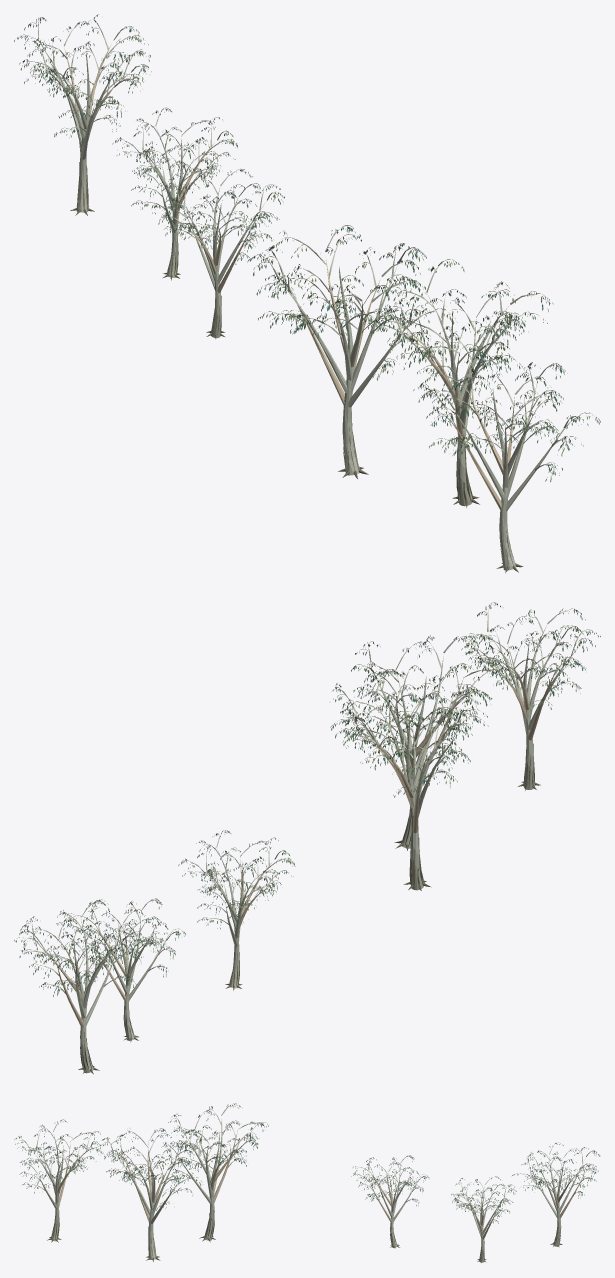
The model's file is ecology-eucalyptus-mid-4.glb.
3 views of the same model, one above another, from view 1: azimuth 30°, elevation 25°; view 2: azimuth 150°, elevation 25°; view 3: azimuth 270°, elevation 25° (orthographic). The views are drawn at different scales.
Parts seen in each view (by area): view 1: eucalyptus-mid-27, eucalyptus-mid-28, eucalyptus-mid-29, eucalyptus-mid-24, eucalyptus-mid-26, eucalyptus-mid-25; view 2: eucalyptus-mid-27, eucalyptus-mid-28, eucalyptus-mid-29, eucalyptus-mid-24, eucalyptus-mid-26, eucalyptus-mid-25; view 3: eucalyptus-mid-27, eucalyptus-mid-28, eucalyptus-mid-29, eucalyptus-mid-24, eucalyptus-mid-26, eucalyptus-mid-25.
Boxes of the visible parts, bbox=[...] form: eucalyptus-mid-27: bbox=[247, 225, 457, 478]; eucalyptus-mid-28: bbox=[367, 259, 553, 507]; eucalyptus-mid-29: bbox=[413, 355, 600, 573]; eucalyptus-mid-24: bbox=[14, 14, 151, 215]; eucalyptus-mid-26: bbox=[152, 168, 284, 339]; eucalyptus-mid-25: bbox=[112, 107, 237, 280]; eucalyptus-mid-27: bbox=[335, 669, 492, 890]; eucalyptus-mid-28: bbox=[330, 635, 506, 850]; eucalyptus-mid-29: bbox=[461, 602, 600, 790]; eucalyptus-mid-24: bbox=[14, 899, 143, 1074]; eucalyptus-mid-26: bbox=[178, 830, 295, 990]; eucalyptus-mid-25: bbox=[63, 898, 185, 1042]; eucalyptus-mid-27: bbox=[161, 1103, 268, 1242]; eucalyptus-mid-28: bbox=[100, 1128, 202, 1261]; eucalyptus-mid-29: bbox=[14, 1119, 103, 1242]; eucalyptus-mid-24: bbox=[512, 1142, 600, 1247]; eucalyptus-mid-26: bbox=[351, 1155, 429, 1248]; eucalyptus-mid-25: bbox=[451, 1176, 516, 1262].
Size of the model in its own units: 15.61 by 16.05 by 67.87.
